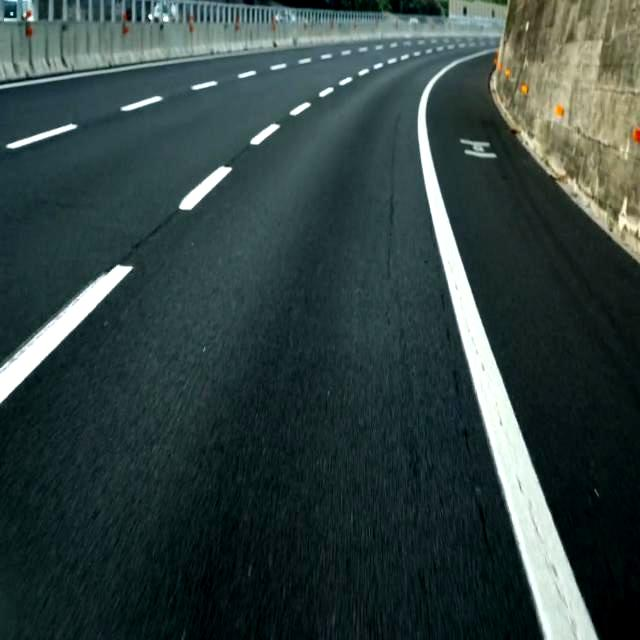lane: (419, 49, 596, 637), (1, 266, 129, 401), (180, 167, 231, 209), (6, 124, 76, 148), (251, 125, 279, 144), (122, 97, 162, 110), (290, 103, 310, 115)
road: (0, 48, 540, 639), (429, 56, 639, 639)
